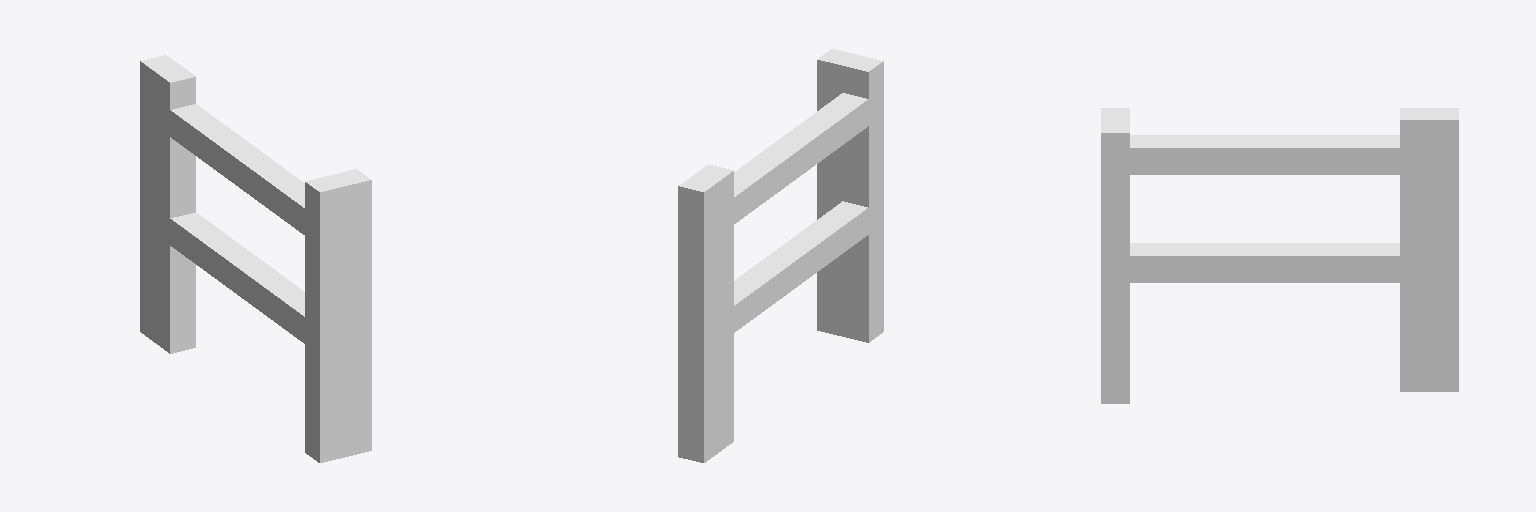
The model's file is GDS2_TrainAccesories-2.obj.
The picture shows the model from 3 angles: view 1: azimuth 30°, elevation 25°; view 2: azimuth 150°, elevation 25°; view 3: azimuth 270°, elevation 25°; orthographic projection.
Parts seen in each view (by area): view 1: GDS2_TrainAccesories-2; view 2: GDS2_TrainAccesories-2; view 3: GDS2_TrainAccesories-2.
Boxes of the visible parts, x1,y1,x2,y2 form: GDS2_TrainAccesories-2: [140, 55, 371, 462]; GDS2_TrainAccesories-2: [678, 49, 883, 462]; GDS2_TrainAccesories-2: [1101, 108, 1458, 403].
Bounding box in the file's own units: 0.2 × 1 × 1.2.